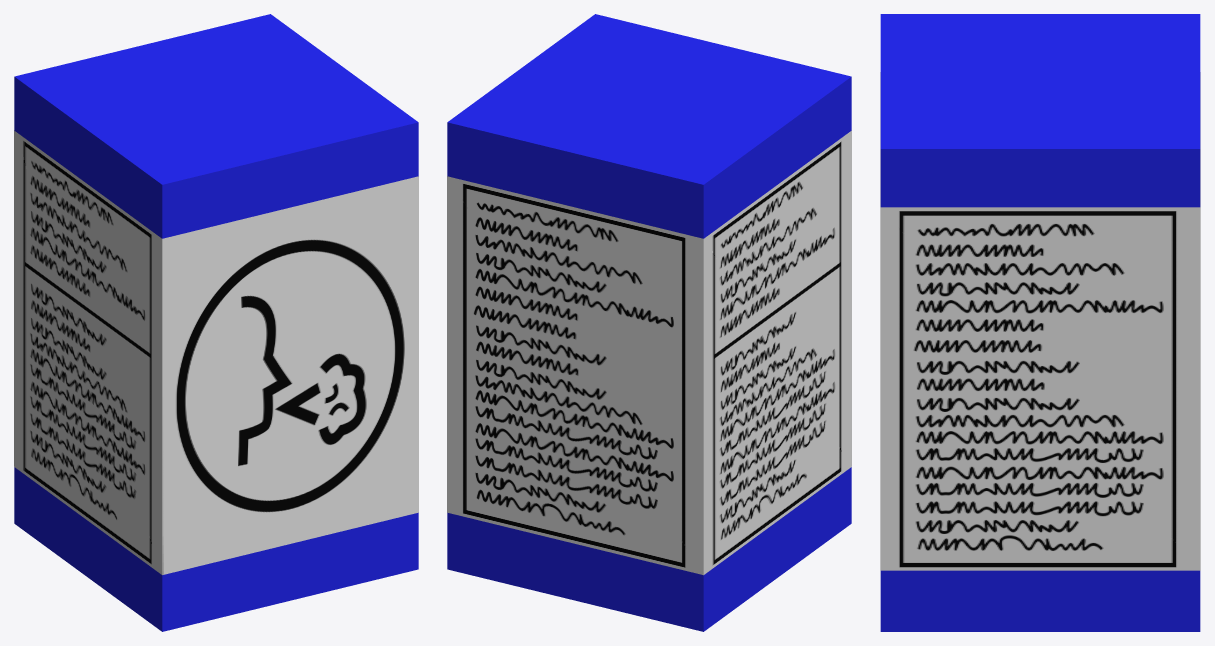
The model's file is coughBusterOTC.fbx.
3 views of the same model, side by side, from view 1: azimuth 30°, elevation 25°; view 2: azimuth 150°, elevation 25°; view 3: azimuth 270°, elevation 25° (orthographic). The views are drawn at different scales.
Parts seen in each view (by area): view 1: coughLabel, coldFluBox; view 2: coughLabel, coldFluBox; view 3: coughLabel, coldFluBox.
Boxes of the visible parts, <box> form: coughLabel: <box>14,130,418,574</box>; coldFluBox: <box>14,14,418,631</box>; coughLabel: <box>447,130,851,575</box>; coldFluBox: <box>447,14,851,631</box>; coughLabel: <box>880,72,1200,570</box>; coldFluBox: <box>880,14,1200,631</box>.
Size of the model in its own units: 12.01 by 20 by 12.01.
